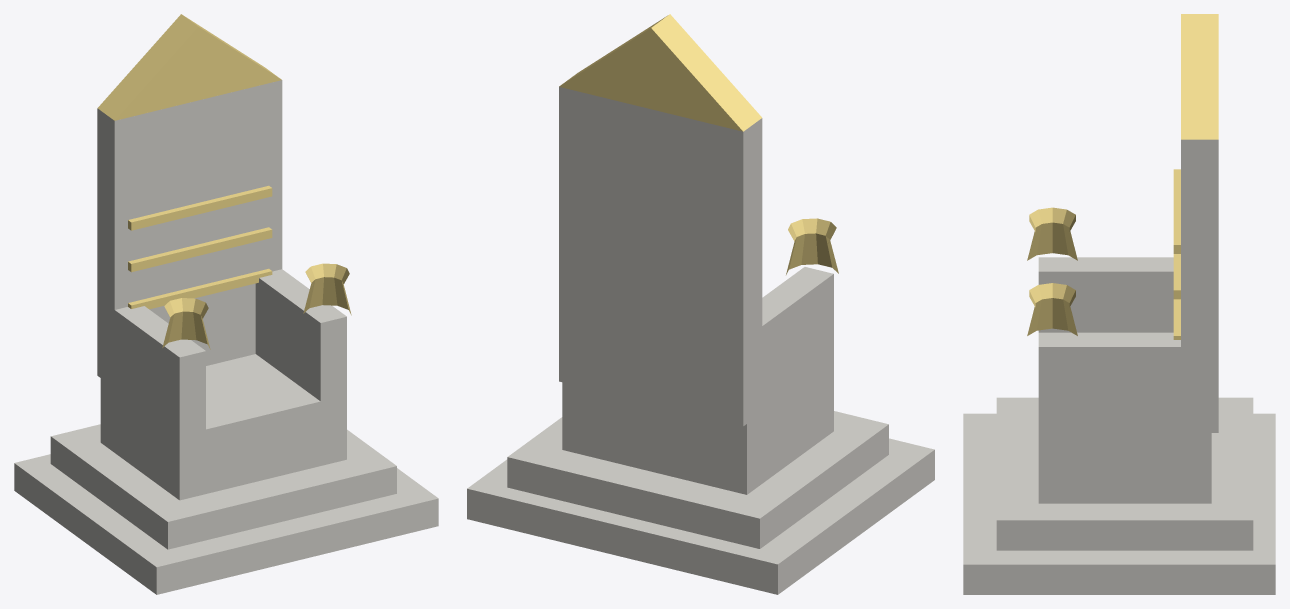
File: mythic-underworld-and-olympus-thunder-throne-bb802f1d__21382.glb
3 renders of one model, left to right at view 1: azimuth 30°, elevation 25°; view 2: azimuth 150°, elevation 25°; view 3: azimuth 270°, elevation 25°, orthographic. The views are drawn at different scales.
Visible parts, largest first — view 1: thunder-throne; view 2: thunder-throne; view 3: thunder-throne.
Boxes of the visible parts, x1,y1,x2,y2 form: thunder-throne: (14,14,438,594); thunder-throne: (467,14,934,594); thunder-throne: (963,14,1275,594).
Bounding box in the file's own units: 3.2 × 5 × 2.8.
